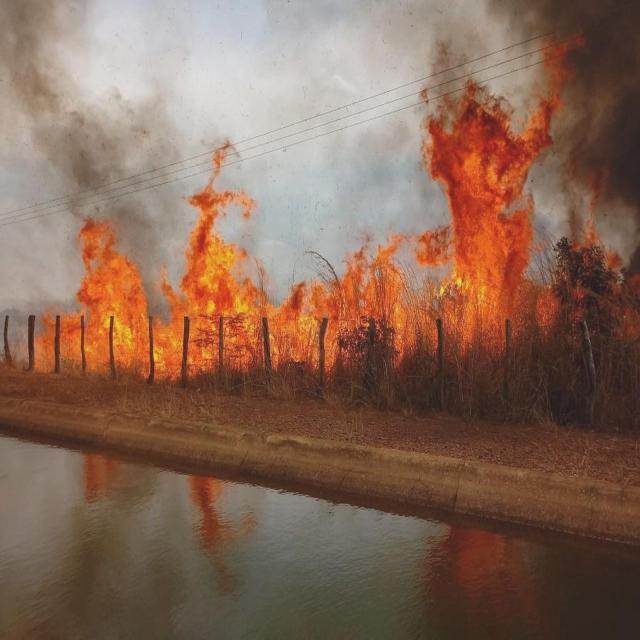Fire: (27, 72, 634, 385)
